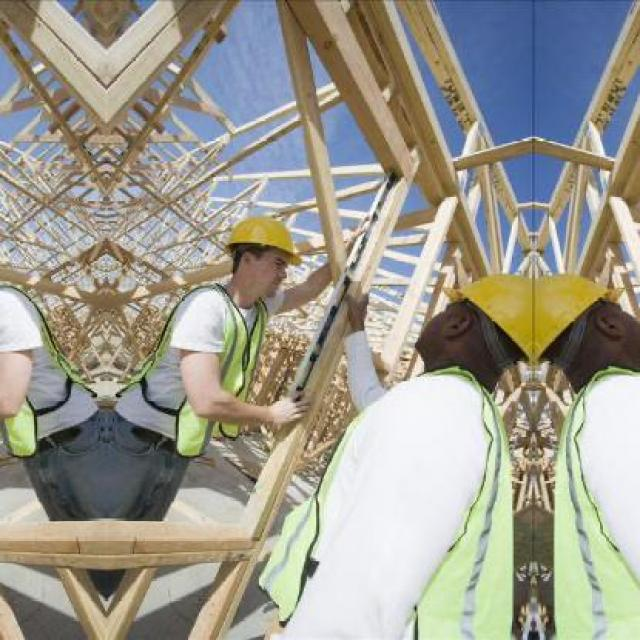Reflective-Jacket: (245, 371, 531, 632), (111, 280, 285, 458), (540, 363, 640, 640), (0, 258, 99, 462)
Safety-Helmet: (439, 266, 534, 363), (534, 266, 624, 359), (217, 209, 307, 269)
